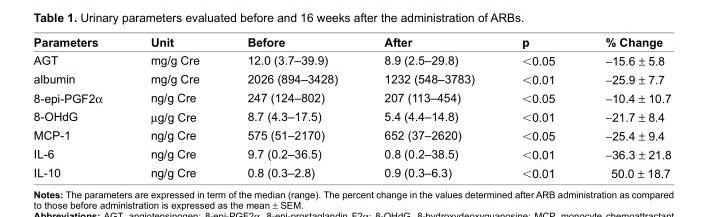table: (32, 34, 670, 180)
table column: (222, 34, 360, 180), (360, 34, 497, 180), (125, 34, 222, 180), (32, 34, 125, 180), (579, 34, 670, 180), (497, 34, 579, 180)
table column header: (32, 34, 670, 50)
table row: (32, 50, 670, 69), (32, 69, 670, 88), (32, 88, 670, 107), (32, 125, 670, 144), (32, 144, 670, 163), (32, 107, 670, 125), (32, 163, 670, 180), (32, 34, 670, 50)
